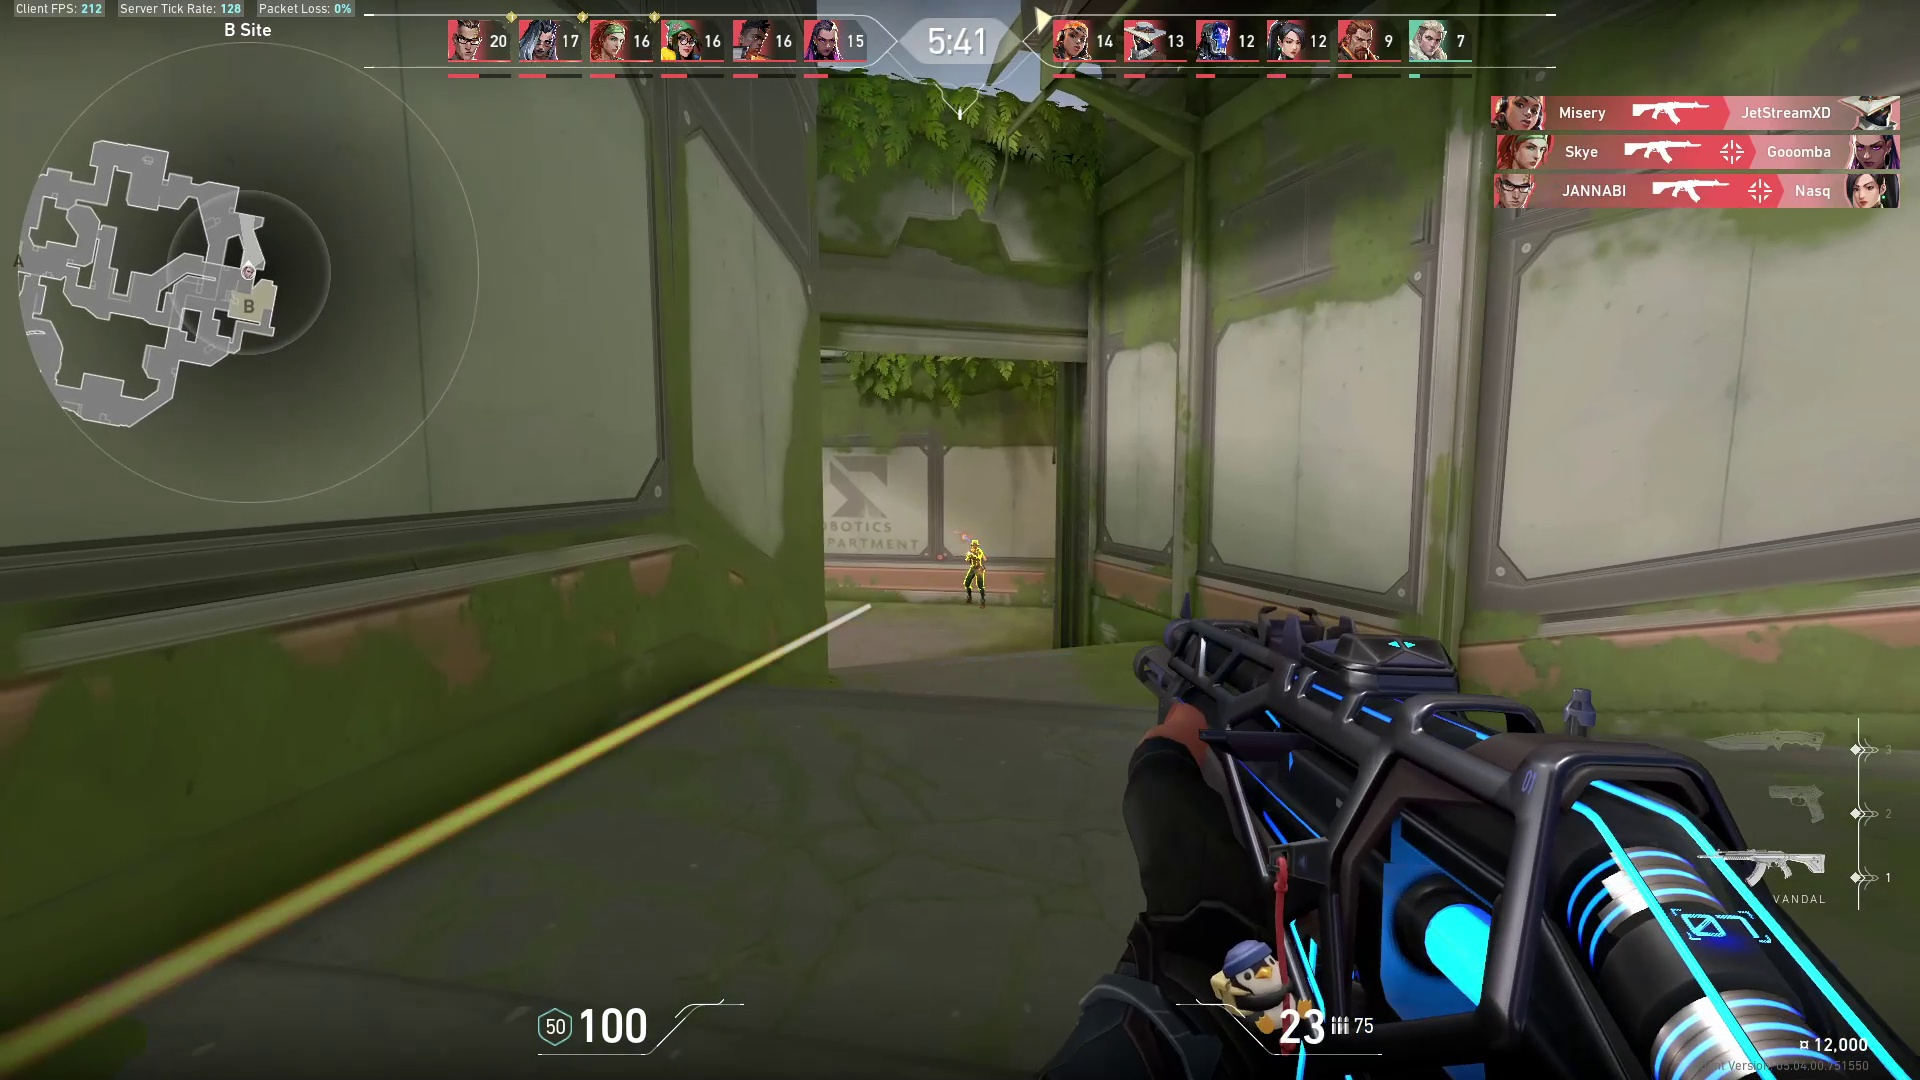enemy_body: (961, 549, 992, 610)
enemy_head: (967, 536, 982, 551)
